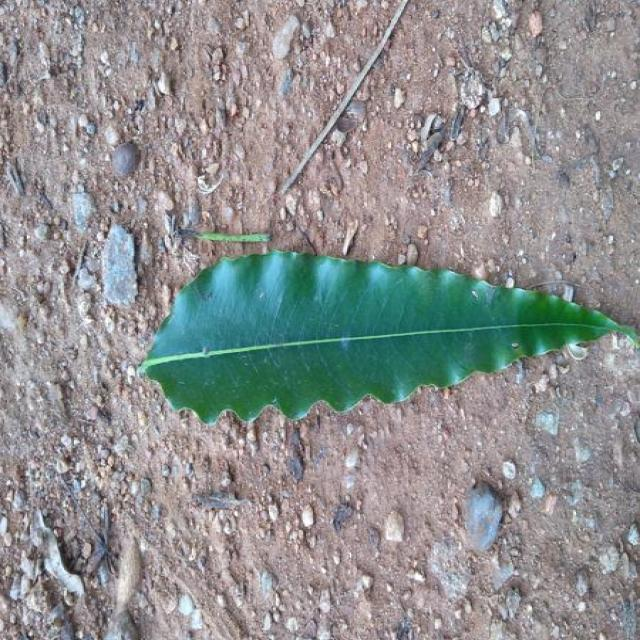ashoka: (140, 251, 635, 422)
